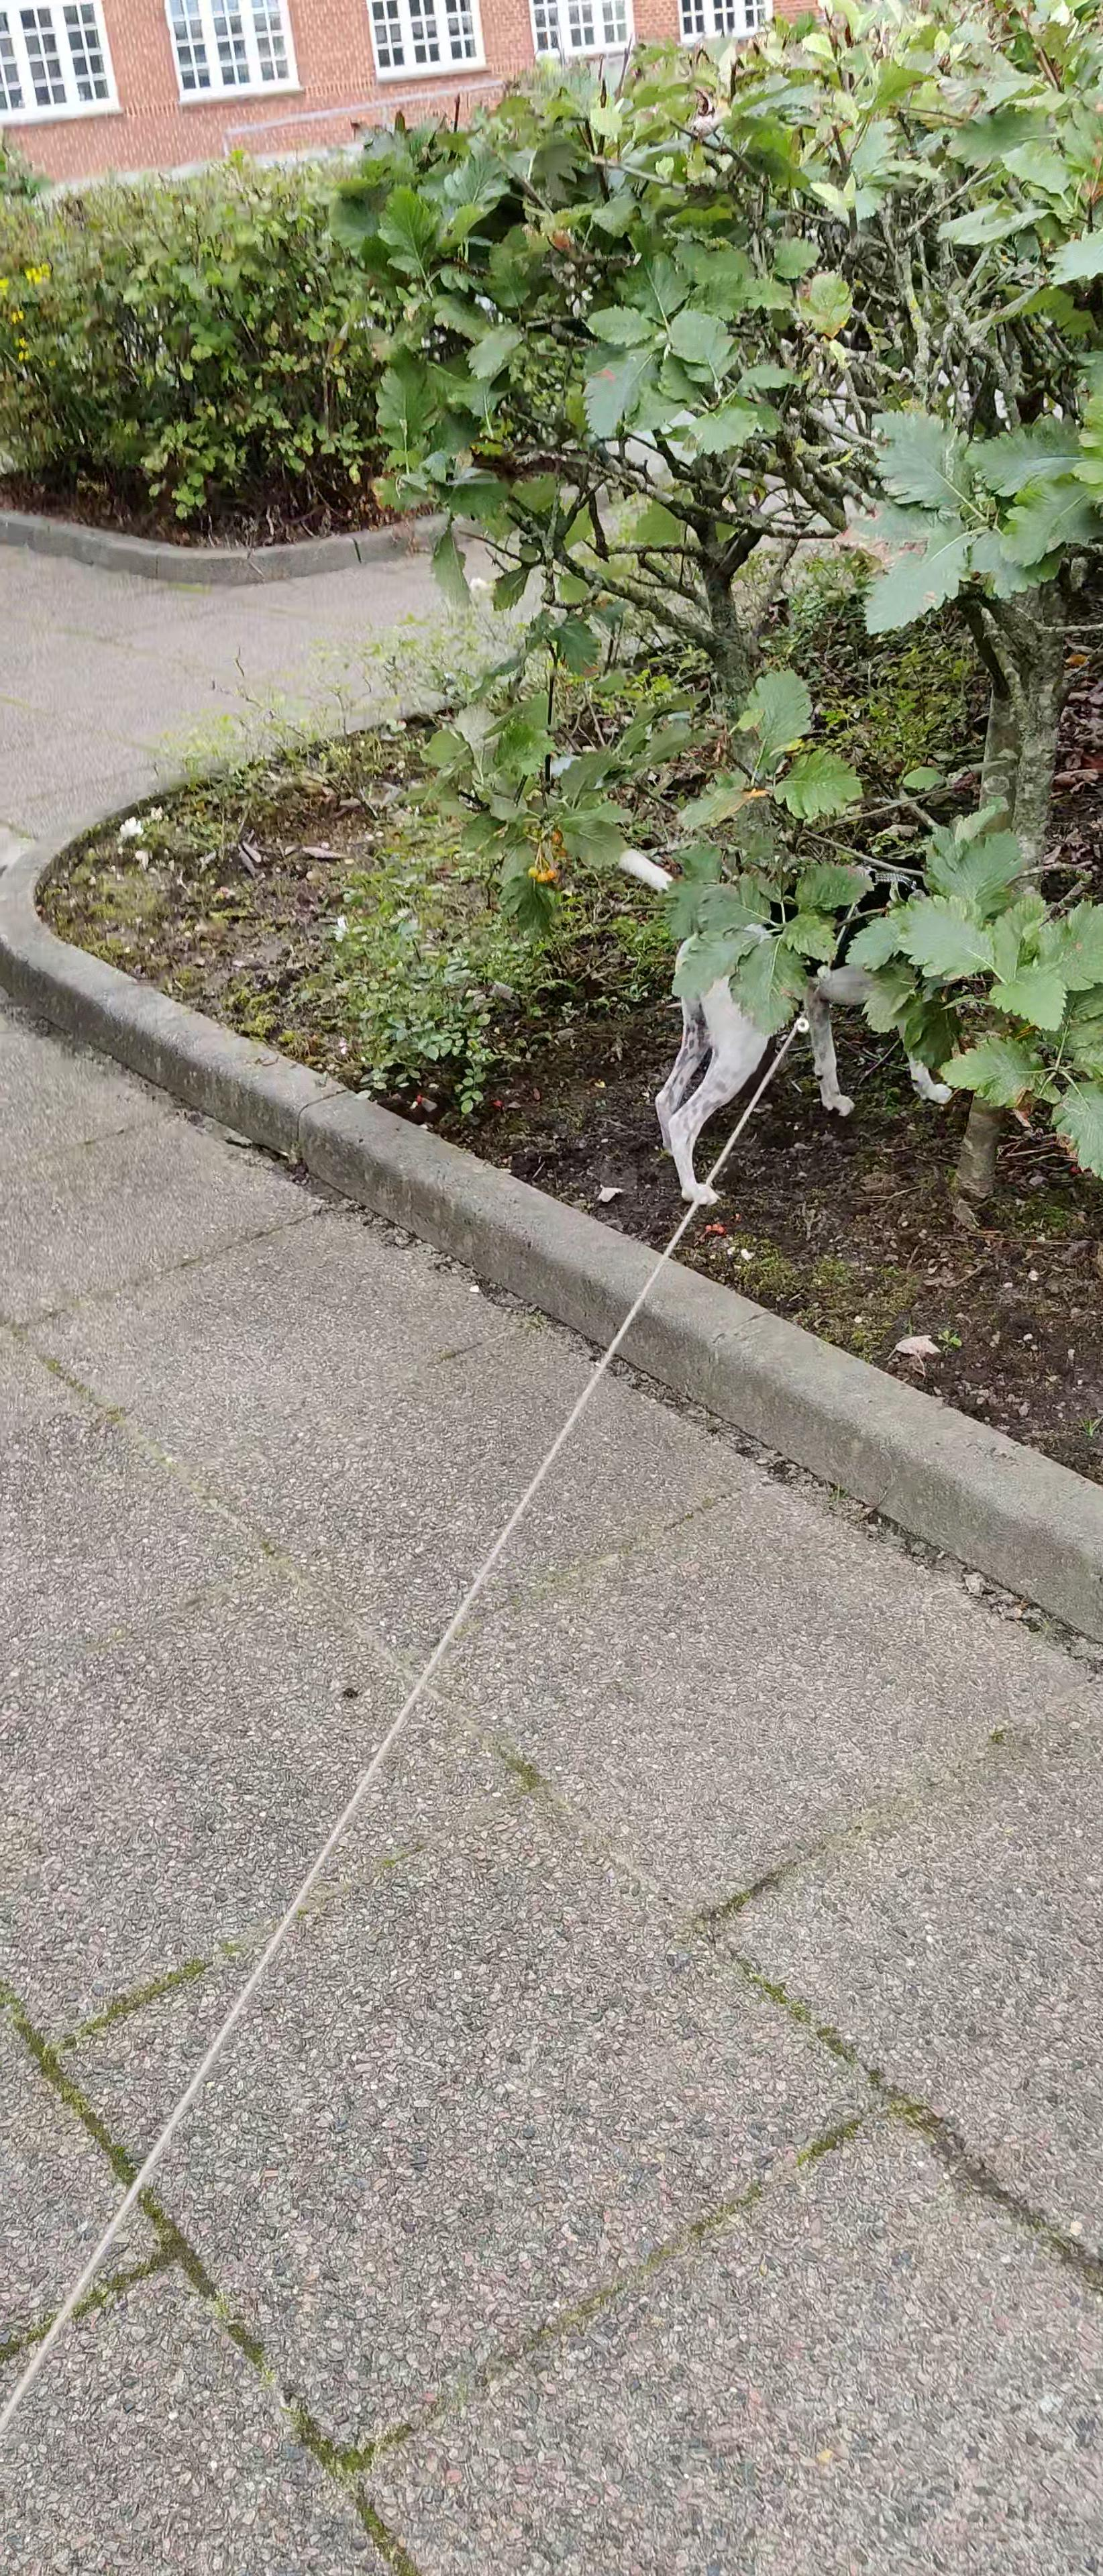Dog: (538, 836, 960, 1214)
